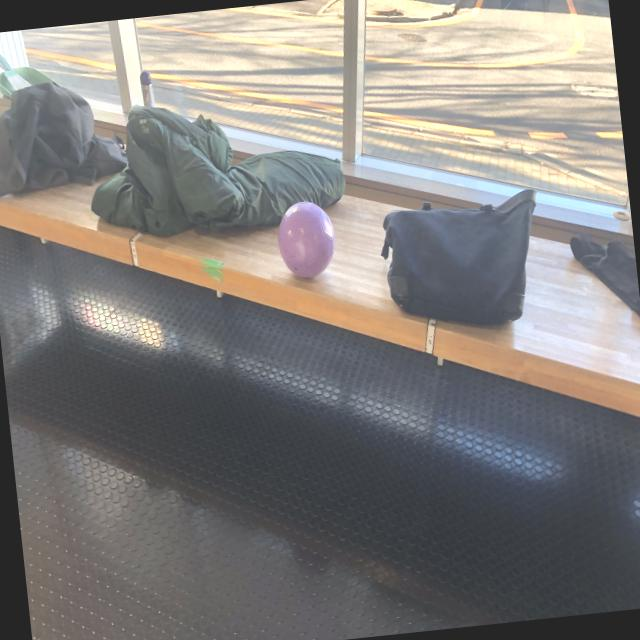purple_ball: (274, 198, 336, 277)
